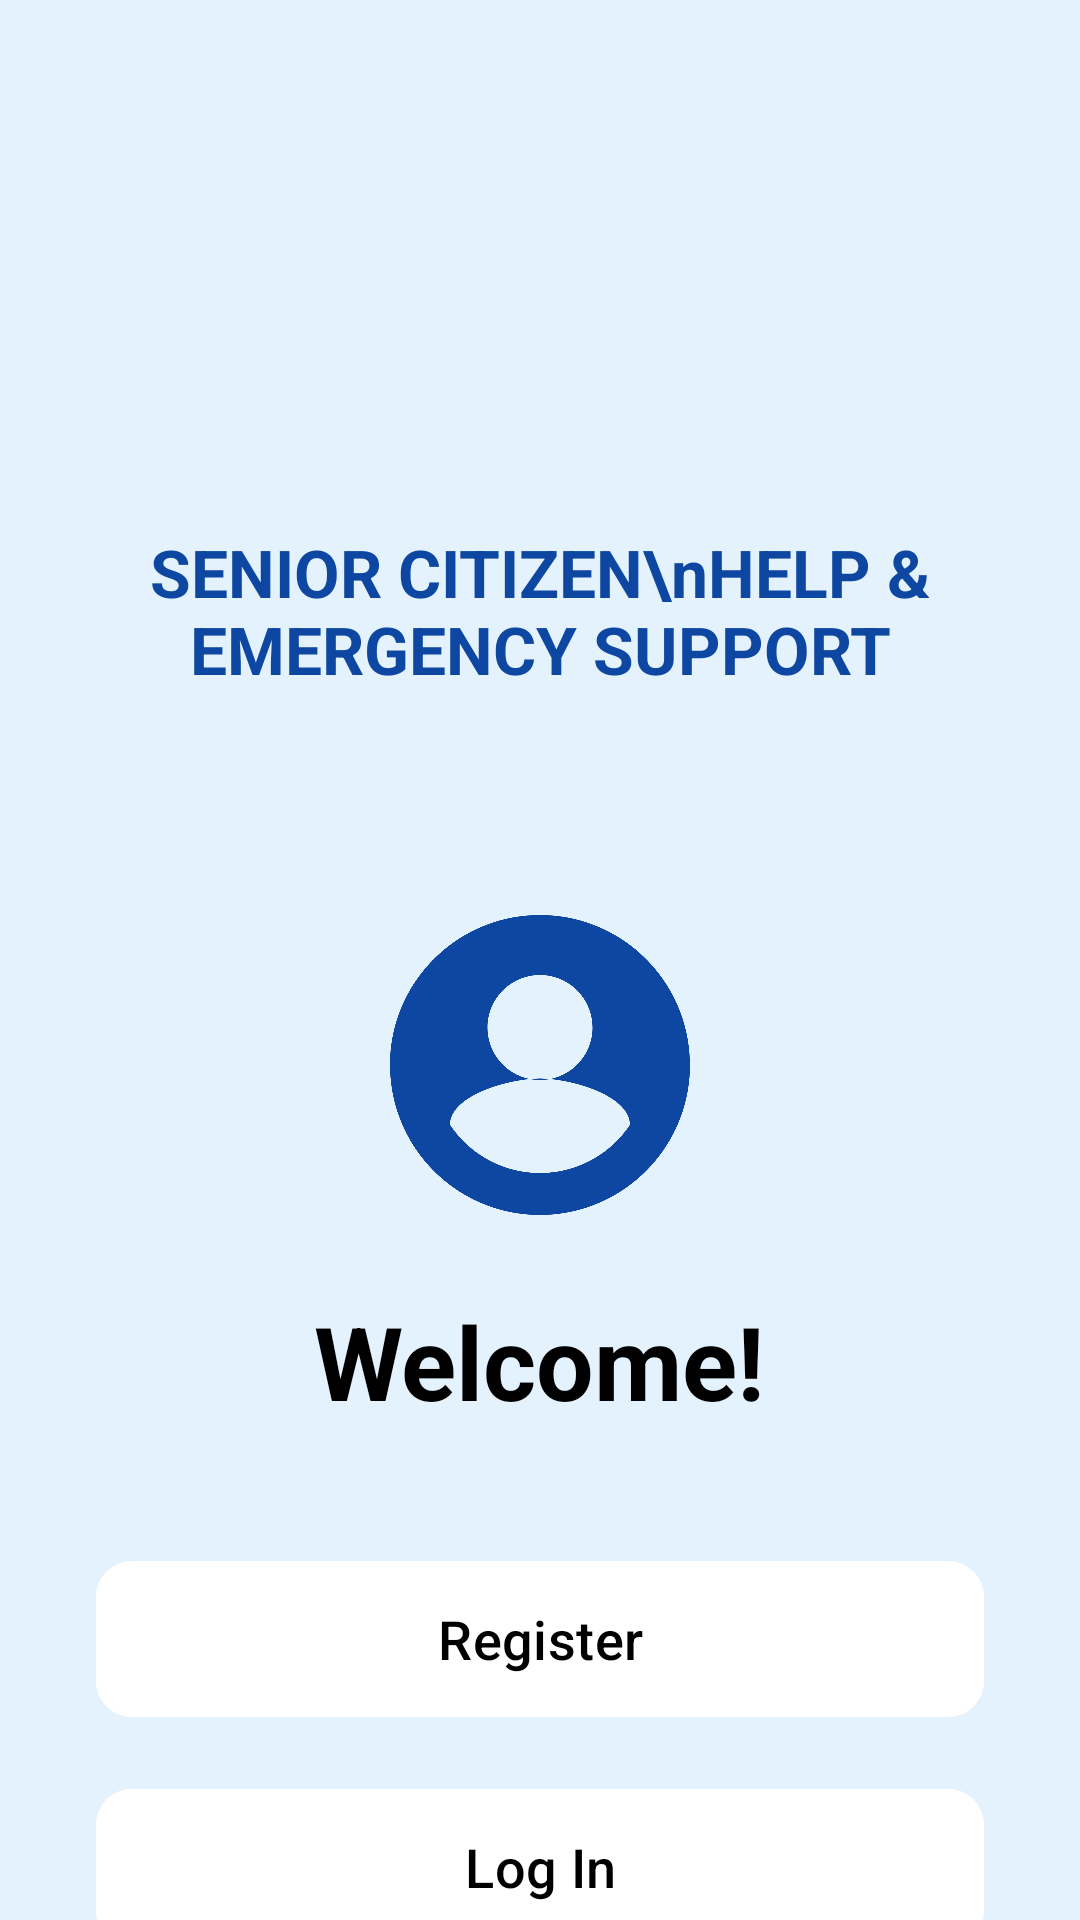

Icon bounding boxes for this 1080px x 1920px phone screenshot, format (x1, y1, x2, y2):
account circle: (390, 915, 690, 1215)
